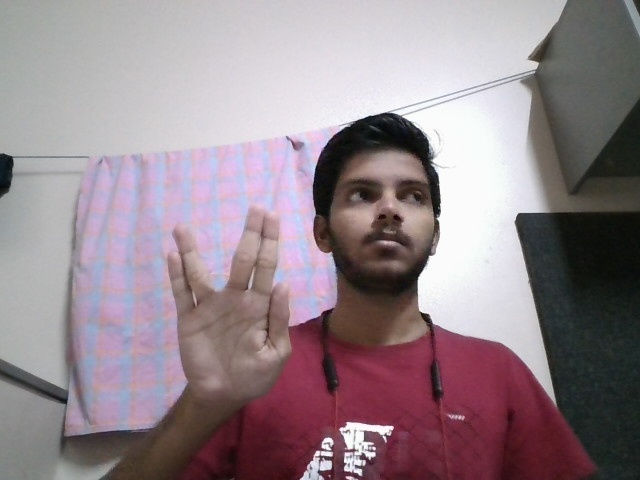Live Long: (155, 201, 295, 404)
